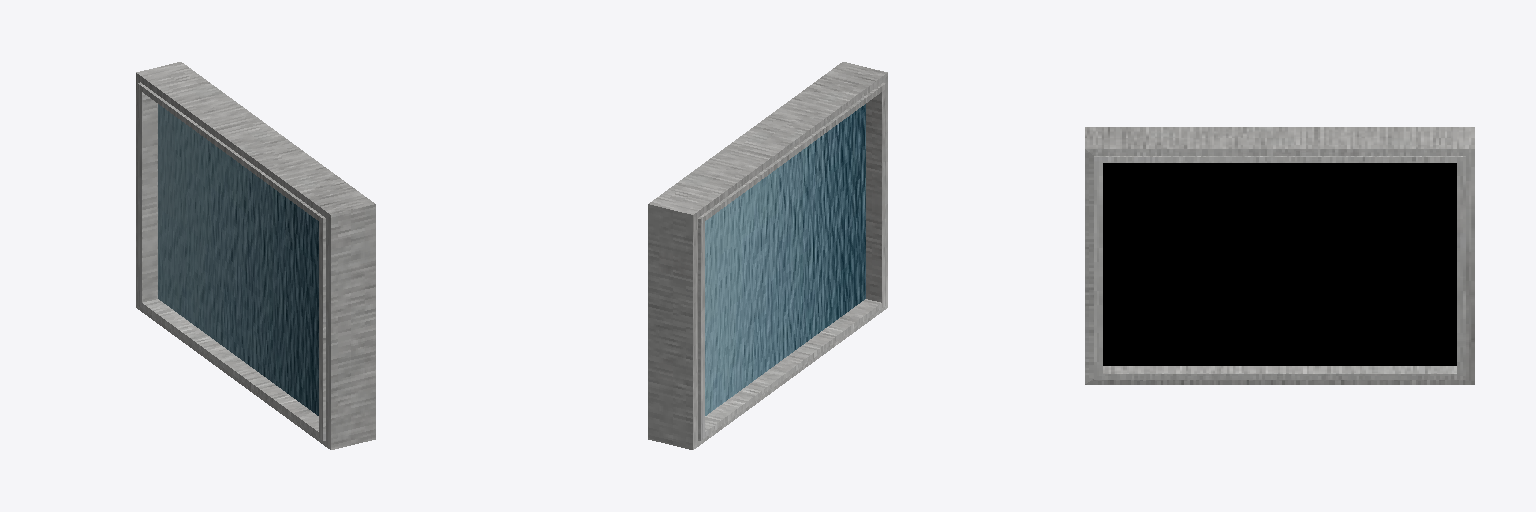
The picture shows the model from 3 angles: view 1: azimuth 30°, elevation 25°; view 2: azimuth 150°, elevation 25°; view 3: azimuth 270°, elevation 25°; orthographic projection.
Parts seen in each view (by area): view 1: Vidro_Cube.032; view 2: Vidro_Cube.032; view 3: Vidro_Cube.032.
Part boxes in pixels (left/top/right/bottom): Vidro_Cube.032: left=136, top=62, right=375, bottom=449; Vidro_Cube.032: left=648, top=62, right=887, bottom=449; Vidro_Cube.032: left=1085, top=127, right=1474, bottom=384.
Size of the model in its own units: 1.15 by 5.07 by 7.6.
2 materials, 1 textured.